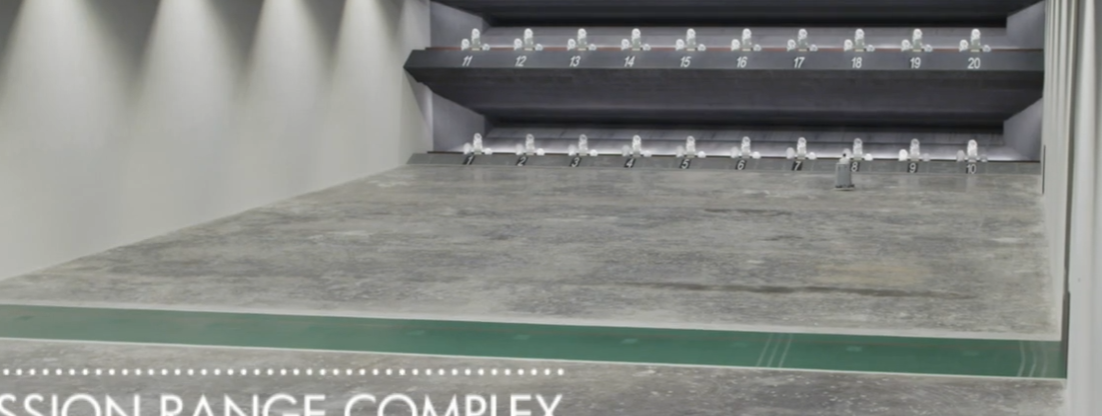HVT1: (576, 28, 586, 50), (523, 28, 533, 50), (971, 29, 980, 51), (855, 28, 864, 50), (798, 28, 807, 50), (741, 28, 750, 50), (686, 27, 695, 49), (471, 28, 480, 50), (913, 29, 922, 50), (631, 28, 640, 49), (473, 133, 481, 154), (853, 139, 861, 160), (526, 134, 534, 154), (968, 141, 976, 161), (911, 140, 919, 160), (798, 138, 806, 158), (687, 136, 695, 156), (579, 135, 587, 155), (742, 137, 749, 157), (633, 136, 640, 156), (843, 39, 852, 50), (566, 39, 575, 50), (513, 38, 522, 49), (515, 143, 523, 155), (956, 150, 964, 162), (843, 147, 851, 159), (730, 146, 738, 158), (676, 145, 684, 157), (622, 144, 630, 156), (900, 39, 909, 49), (786, 39, 795, 49), (730, 39, 739, 49), (675, 39, 684, 49), (460, 39, 469, 49), (899, 149, 907, 160), (787, 147, 795, 158), (568, 144, 576, 155), (959, 40, 967, 50), (621, 39, 629, 49), (809, 43, 817, 51), (464, 144, 470, 154), (924, 44, 932, 51), (866, 44, 874, 51), (753, 44, 761, 51), (698, 43, 705, 51), (588, 43, 596, 50), (482, 43, 490, 50), (698, 151, 705, 158), (537, 148, 544, 155), (590, 149, 597, 156), (983, 44, 990, 51), (643, 44, 650, 51), (535, 43, 542, 50), (484, 148, 492, 154), (864, 154, 872, 160), (808, 153, 815, 159), (752, 152, 759, 158), (643, 150, 650, 156), (980, 155, 987, 161), (922, 154, 929, 160)
